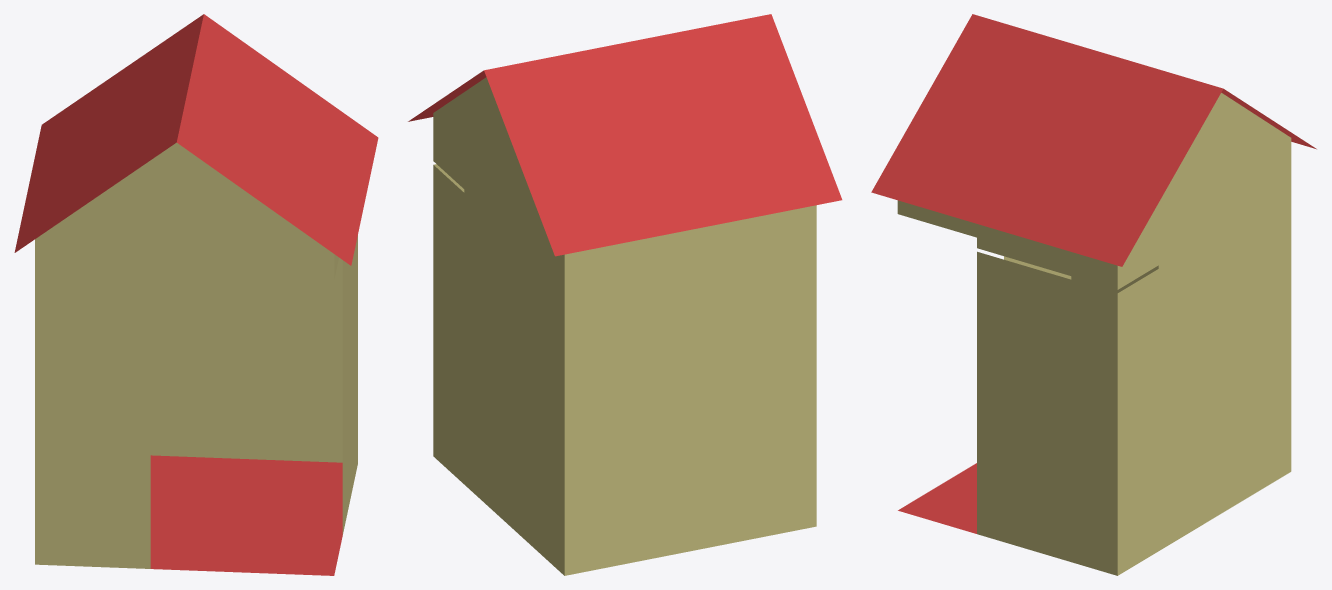
The picture shows the model from 3 angles, left to right: view 1: azimuth 30°, elevation 25°; view 2: azimuth 150°, elevation 25°; view 3: azimuth 270°, elevation 25°; orthographic projection. The views are drawn at different scales.
Size of the model in its own units: 12.02 by 11.81 by 12.77.
